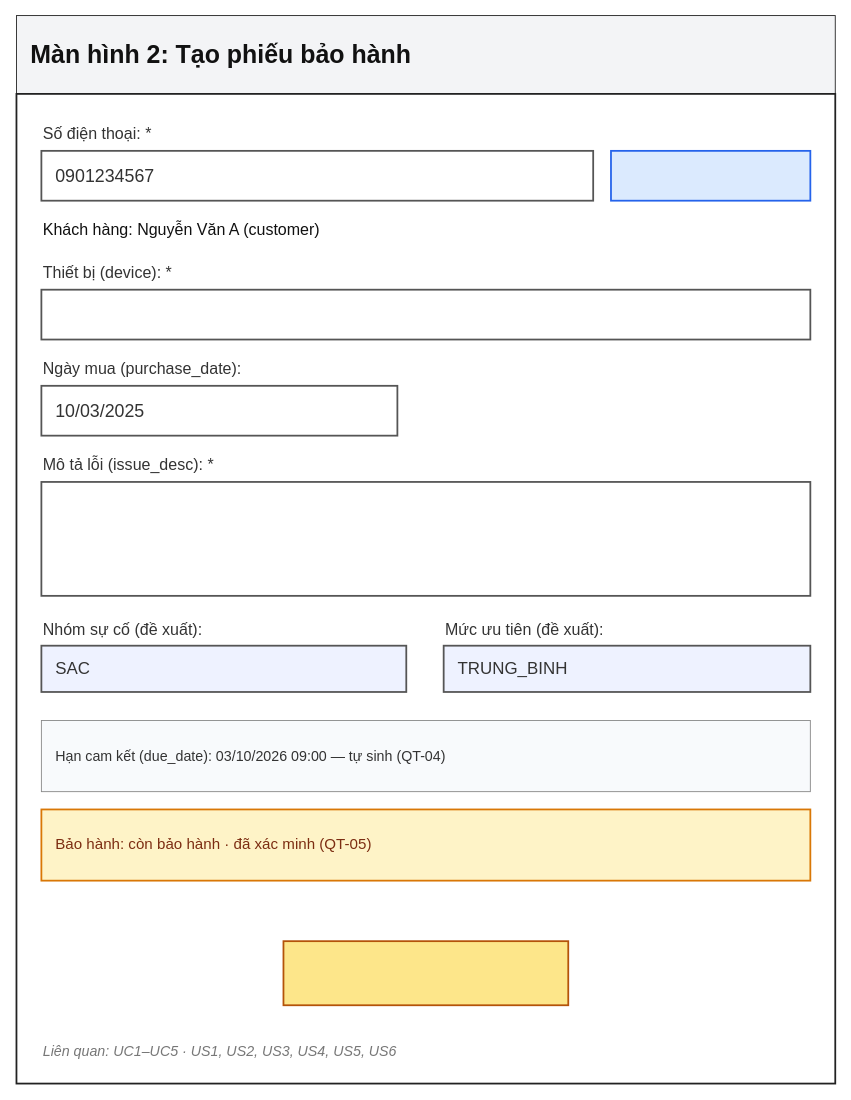
This 851x1100 diagram has some shape labels left out. Here are the shapes that lost their labels. From the top down, the centre of each, then its label:
At point 710,175: "Tra cứu".
At point 425,314: "iPhone 13 — IMEI123456 ▾".
At point 425,538: "Máy sạc không vào, cắm sạc báo lỗi phụ kiện…".
At point 425,973: "Lưu phiếu bảo hành".
